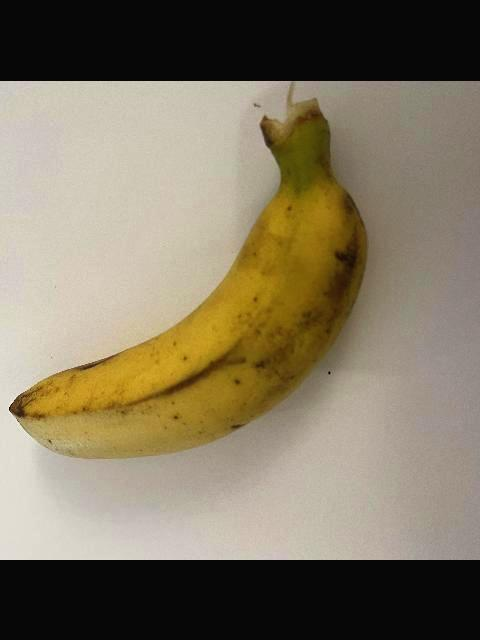banana: (7, 94, 370, 460)
